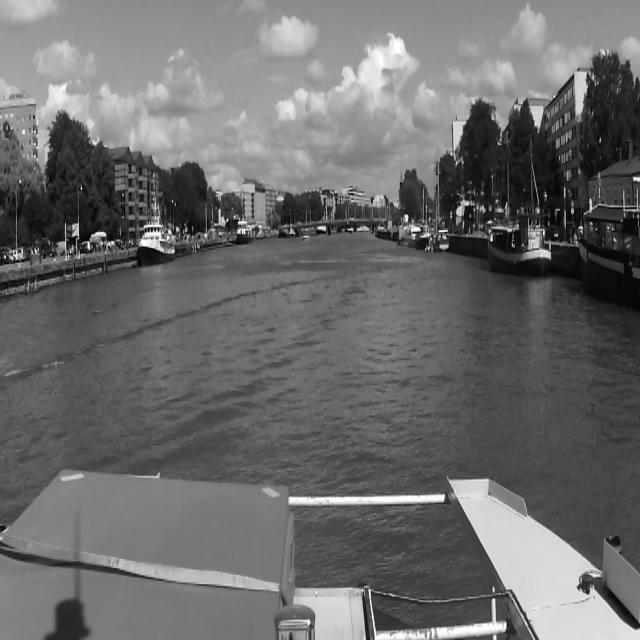ship: (577, 200, 639, 302), (486, 212, 552, 270), (429, 152, 451, 251), (134, 227, 178, 263), (414, 190, 430, 252), (236, 220, 250, 243), (278, 224, 288, 237), (300, 231, 310, 243), (290, 223, 296, 237)
